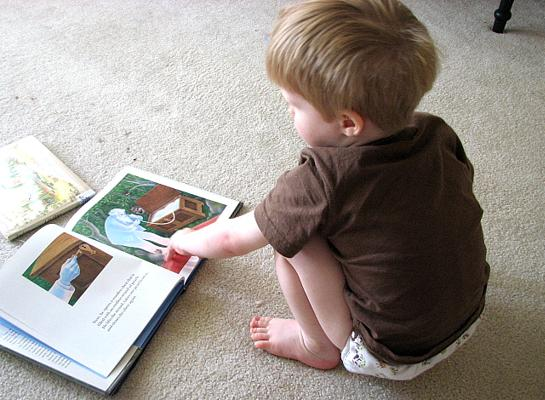person: (162, 3, 495, 385)
